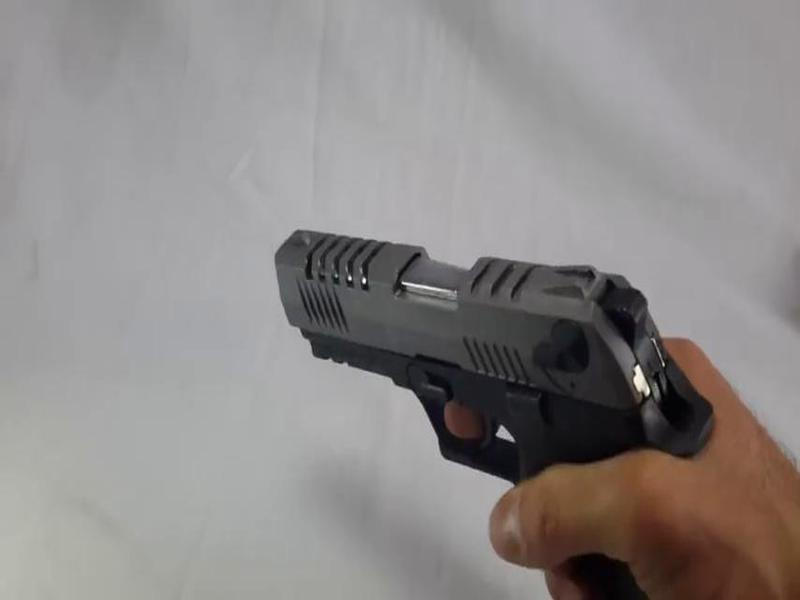Pistola: (242, 160, 752, 595)
